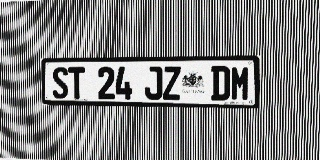2: (98, 67, 115, 99)
4: (115, 66, 132, 100)
D: (211, 66, 230, 101)
J: (145, 66, 162, 100)
M: (230, 66, 250, 101)
S: (52, 67, 69, 99)
T: (68, 67, 85, 99)
Z: (163, 66, 181, 100)
